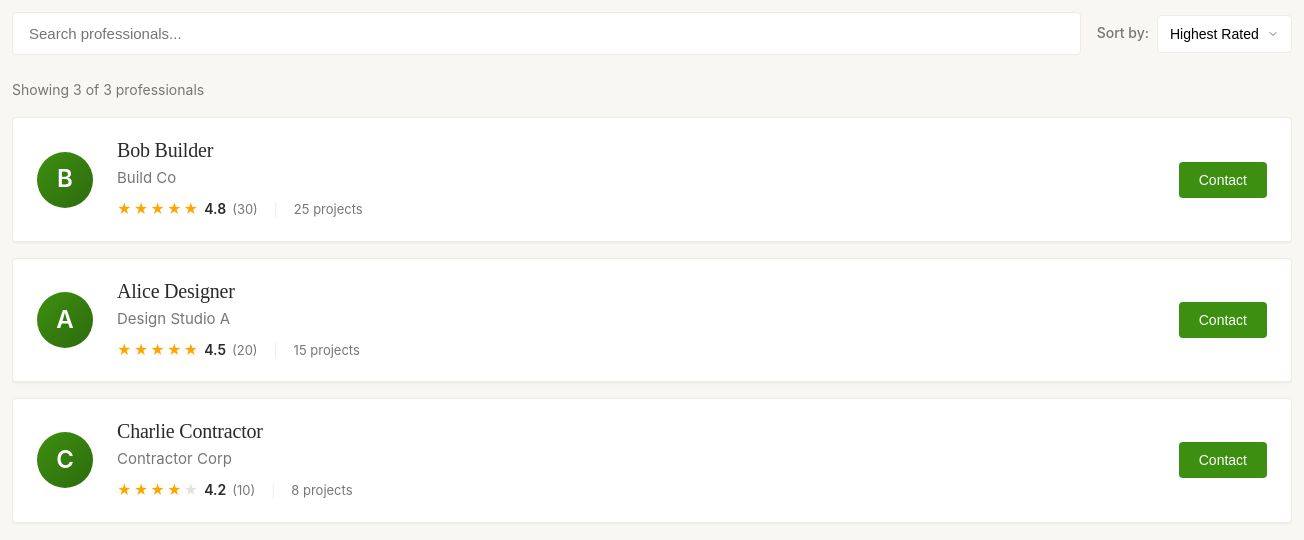
Test: ProfessionalsList Component › filters professionals by company search
The image size is (1304, 540).
In the field with placeholder "Search professionals...": (546, 34) [12,12,1081,55], type "Build Co"
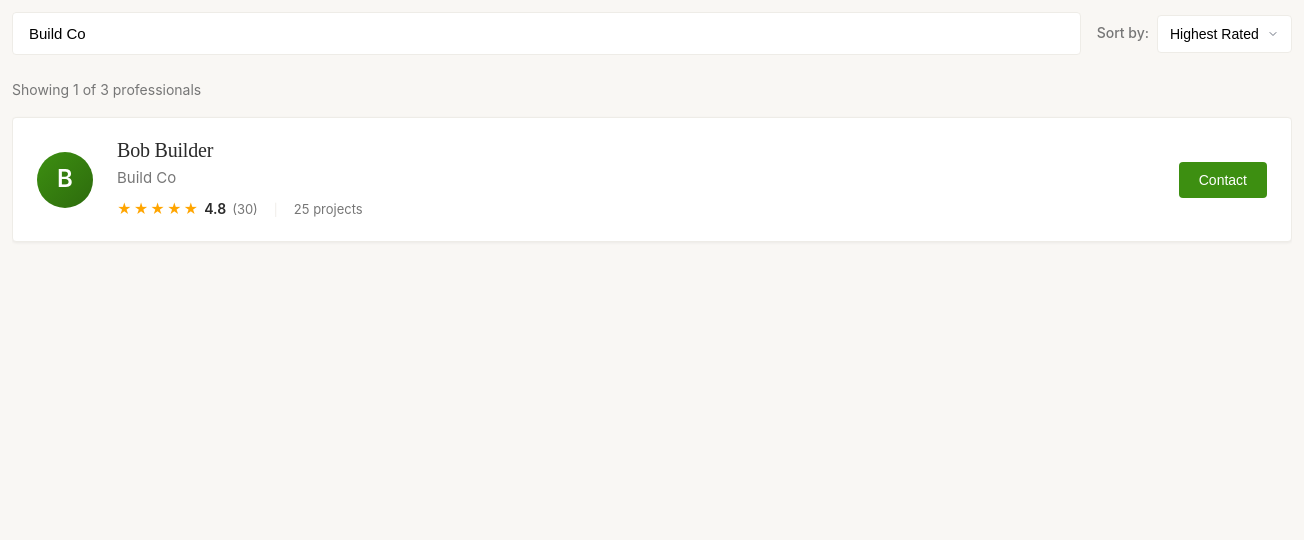
Check: the heading "Bob Builder" is shown, box [117,139,213,161]
Check: the link "Alice Designer" is gone
